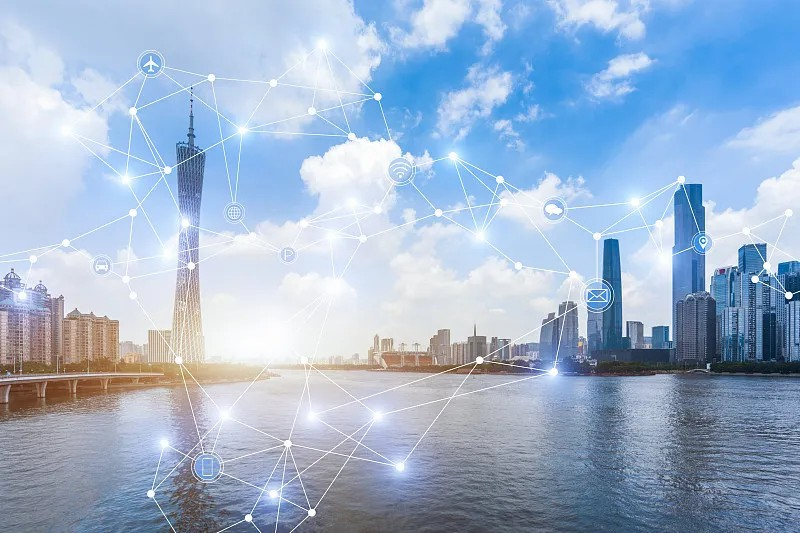Canton: (167, 87, 208, 368)
